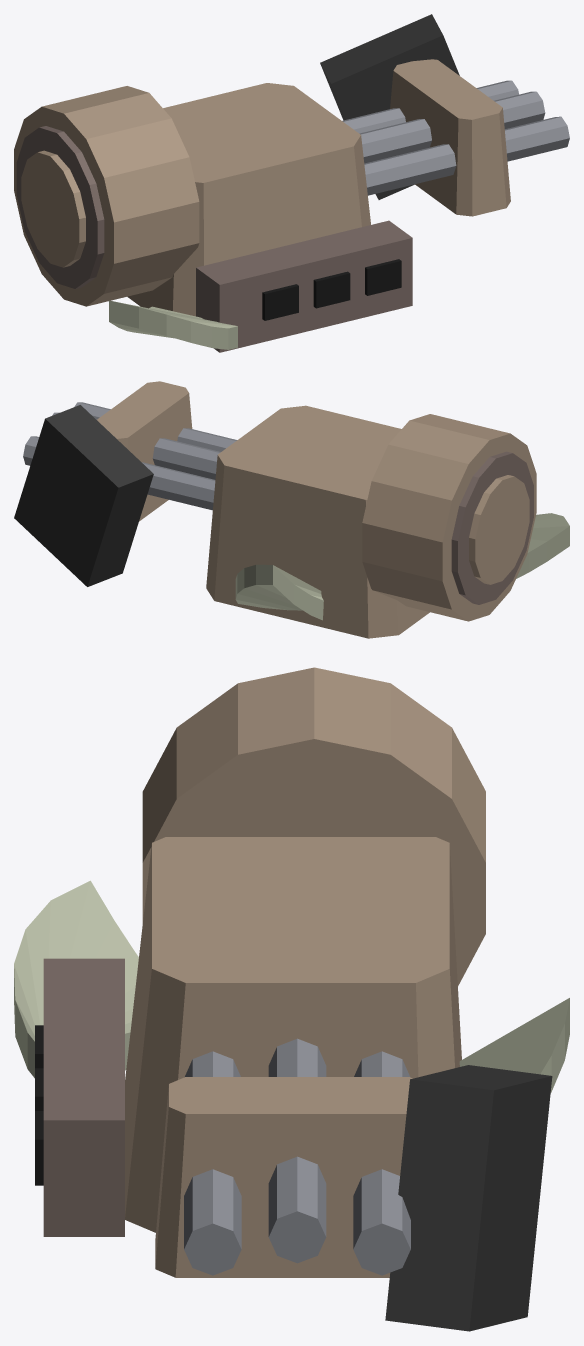
Rendered from exostrider_cannon.obj.
3 views of the same model, one above another, from view 1: azimuth 30°, elevation 25°; view 2: azimuth 150°, elevation 25°; view 3: azimuth 270°, elevation 25° (orthographic). The views are drawn at different scales.
Parts seen in each view (by area): view 1: exostrider_cannon_3, exostrider_cannon_4, exostrider_cannon_11, exostrider_cannon_10, exostrider_cannon_2, exostrider_cannon_6, exostrider_cannon_5, exostrider_cannon_9, exostrider_cannon_0, exostrider_cannon_8, exostrider_cannon_7, exostrider_cannon_13 (+2 smaller); view 2: exostrider_cannon_3, exostrider_cannon_4, exostrider_cannon_2, exostrider_cannon_6, exostrider_cannon_10, exostrider_cannon_5, exostrider_cannon_1, exostrider_cannon_7, exostrider_cannon_0, exostrider_cannon_8, exostrider_cannon_9; view 3: exostrider_cannon_3, exostrider_cannon_4, exostrider_cannon_2, exostrider_cannon_10, exostrider_cannon_11, exostrider_cannon_0, exostrider_cannon_8, exostrider_cannon_9, exostrider_cannon_7, exostrider_cannon_1.
Part boxes in pixels (x1,y1,x2,y2): exostrider_cannon_3: [127, 83, 370, 316]; exostrider_cannon_4: [14, 86, 199, 306]; exostrider_cannon_11: [196, 220, 412, 352]; exostrider_cannon_10: [390, 59, 510, 216]; exostrider_cannon_2: [320, 14, 459, 199]; exostrider_cannon_6: [21, 150, 85, 267]; exostrider_cannon_5: [16, 126, 104, 288]; exostrider_cannon_9: [364, 116, 569, 195]; exostrider_cannon_0: [109, 300, 237, 349]; exostrider_cannon_8: [359, 91, 545, 163]; exostrider_cannon_7: [342, 80, 518, 133]; exostrider_cannon_13: [313, 271, 350, 308]; exostrider_cannon_3: [206, 405, 429, 638]; exostrider_cannon_4: [362, 414, 536, 621]; exostrider_cannon_2: [14, 405, 153, 586]; exostrider_cannon_6: [469, 475, 529, 584]; exostrider_cannon_10: [97, 381, 192, 521]; exostrider_cannon_5: [451, 451, 533, 604]; exostrider_cannon_1: [235, 564, 323, 620]; exostrider_cannon_7: [23, 436, 215, 510]; exostrider_cannon_0: [516, 513, 569, 578]; exostrider_cannon_8: [52, 412, 220, 479]; exostrider_cannon_9: [74, 402, 237, 451]; exostrider_cannon_3: [125, 837, 461, 1232]; exostrider_cannon_4: [142, 667, 485, 985]; exostrider_cannon_2: [385, 1065, 552, 1331]; exostrider_cannon_10: [155, 1077, 412, 1277]; exostrider_cannon_11: [43, 958, 124, 1236]; exostrider_cannon_0: [14, 880, 138, 1078]; exostrider_cannon_8: [268, 1038, 326, 1263]; exostrider_cannon_9: [184, 1051, 241, 1275]; exostrider_cannon_7: [353, 1051, 410, 1275]; exostrider_cannon_1: [459, 998, 569, 1092].
Size of the model in its own units: 2.86 by 1.12 by 1.64.
